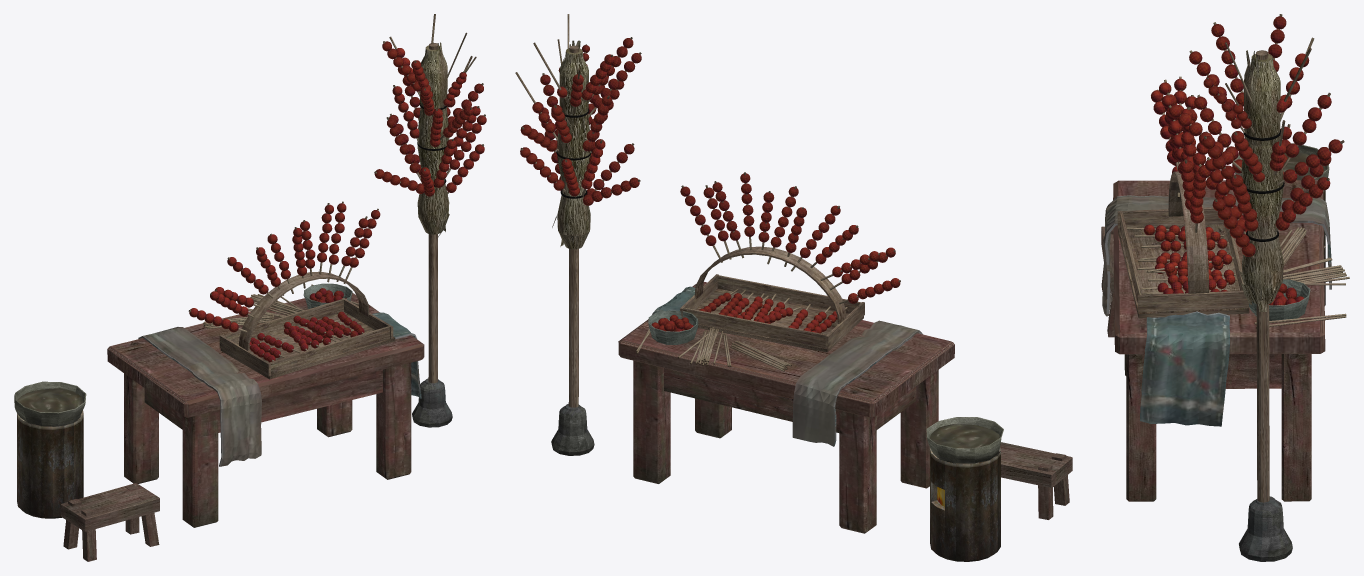
File: 糖葫芦02.fbx
3 renders of one model, left to right at view 1: azimuth 30°, elevation 25°; view 2: azimuth 150°, elevation 25°; view 3: azimuth 270°, elevation 25°, orthographic. The views are drawn at different scales.
Parts seen in each view (by area): view 1: qingmo_obj_599 [4721980], qingmo_obj_597 [4721974], qingmo_obj_300 [4721083], qingmo_obj_619 [4722040], qingmo_obj_602 [4721989], qingmo_obj_601 [4721986], qingmo_obj_520 [4721743], qingmo_obj_546 [4721821], qingmo_obj_551 [4721836], qingmo_obj_301 [4721086], qingmo_obj_620 [4722043], qingmo_obj_621 [4722046] (+4 smaller); view 2: qingmo_obj_599 [4721980], qingmo_obj_300 [4721083], qingmo_obj_597 [4721974], qingmo_obj_619 [4722040], qingmo_obj_602 [4721989], qingmo_obj_546 [4721821], qingmo_obj_522 [4721749], qingmo_obj_301 [4721086], qingmo_obj_551 [4721836], qingmo_obj_520 [4721743], qingmo_obj_620 [4722043], qingmo_obj_621 [4722046] (+3 smaller); view 3: qingmo_obj_599 [4721980], qingmo_obj_597 [4721974], qingmo_obj_619 [4722040], qingmo_obj_546 [4721821], qingmo_obj_620 [4722043], qingmo_obj_621 [4722046], qingmo_obj_520 [4721743], qingmo_obj_547 [4721824], qingmo_obj_550 [4721833], qingmo_obj_308 [4721107], qingmo_obj_551 [4721836], qingmo_obj_522 [4721749] (+3 smaller).
Boxes of the visible parts, x1,y1,x2,y2 form: qingmo_obj_599 [4721980]: (107,293,424,527); qingmo_obj_597 [4721974]: (138,312,421,466); qingmo_obj_300 [4721083]: (17,410,83,518); qingmo_obj_619 [4722040]: (417,42,449,237); qingmo_obj_602 [4721989]: (61,483,159,531); qingmo_obj_601 [4721986]: (63,485,159,561); qingmo_obj_520 [4721743]: (239,271,369,350); qingmo_obj_546 [4721821]: (220,311,395,379); qingmo_obj_551 [4721836]: (269,326,390,374); qingmo_obj_301 [4721086]: (14,381,86,426); qingmo_obj_620 [4722043]: (428,42,438,383); qingmo_obj_621 [4722046]: (412,378,452,427); qingmo_obj_599 [4721980]: (618,282,954,533); qingmo_obj_300 [4721083]: (930,447,1000,561); qingmo_obj_597 [4721974]: (652,286,922,446); qingmo_obj_619 [4722040]: (552,40,590,249); qingmo_obj_602 [4721989]: (1000,442,1072,487); qingmo_obj_546 [4721821]: (695,288,863,352); qingmo_obj_522 [4721749]: (683,307,826,347); qingmo_obj_301 [4721086]: (926,417,1003,463); qingmo_obj_551 [4721836]: (717,275,861,313); qingmo_obj_520 [4721743]: (694,246,846,323); qingmo_obj_620 [4722043]: (568,45,579,407); qingmo_obj_621 [4722046]: (551,404,594,455); qingmo_obj_599 [4721980]: (1113,180,1325,501); qingmo_obj_597 [4721974]: (1102,195,1331,426); qingmo_obj_619 [4722040]: (1239,50,1283,311); qingmo_obj_546 [4721821]: (1118,224,1249,318); qingmo_obj_620 [4722043]: (1256,50,1269,502); qingmo_obj_621 [4722046]: (1239,496,1292,561); qingmo_obj_520 [4721743]: (1168,171,1208,293); qingmo_obj_547 [4721824]: (1138,290,1248,312); qingmo_obj_550 [4721833]: (1117,207,1223,228); qingmo_obj_308 [4721107]: (1249,279,1310,320); qingmo_obj_551 [4721836]: (1120,212,1142,302); qingmo_obj_522 [4721749]: (1225,227,1243,290).
Size of the model in its own units: 25.99 by 9.19 by 21.31.
Materials: 18 (17 with a texture image).
